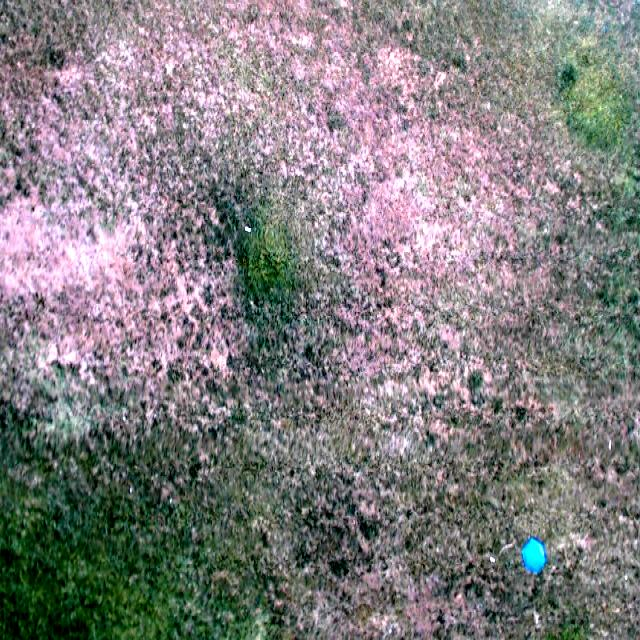blue_hexagon: (523, 538, 546, 574)
